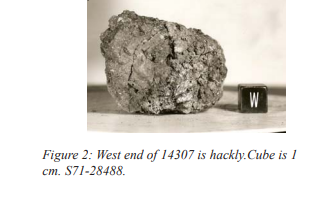Breccia: (97, 5, 232, 114)
